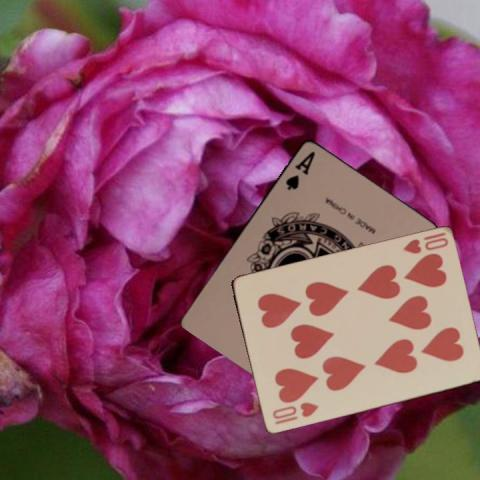10h: (270, 399, 320, 427), (400, 229, 449, 256)
As: (282, 148, 317, 192)
